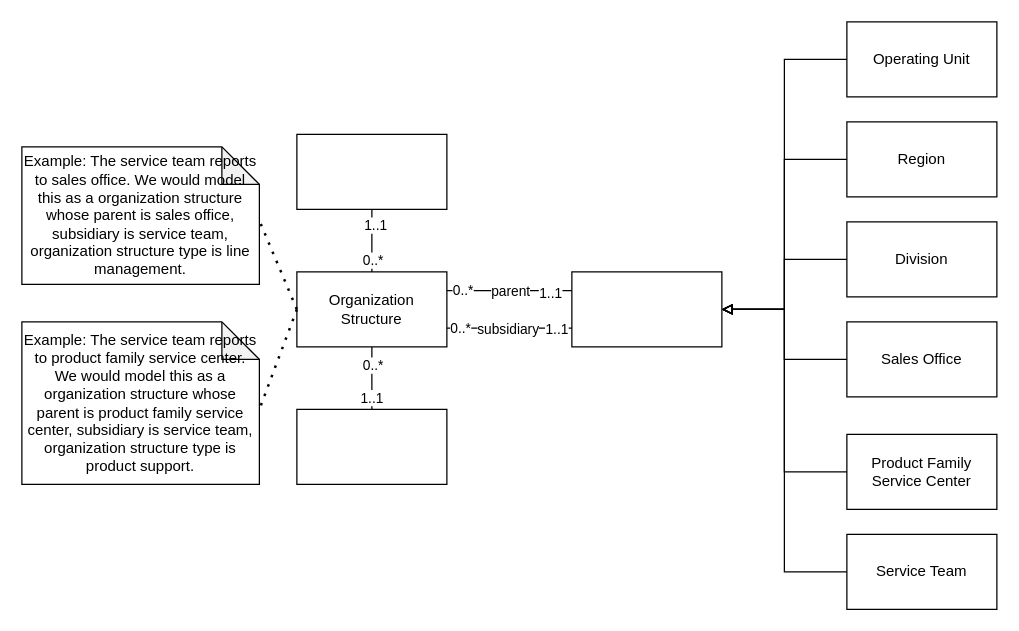
Image size: 1019x631. Some labels were removed from this diagram. The centre of each missing label's shape, as x and y in pixels:
"Organization" belongs at point 646,309.
"Organization Structure Type" belongs at point 371,171.
"Time Period" belongs at point 371,446.
